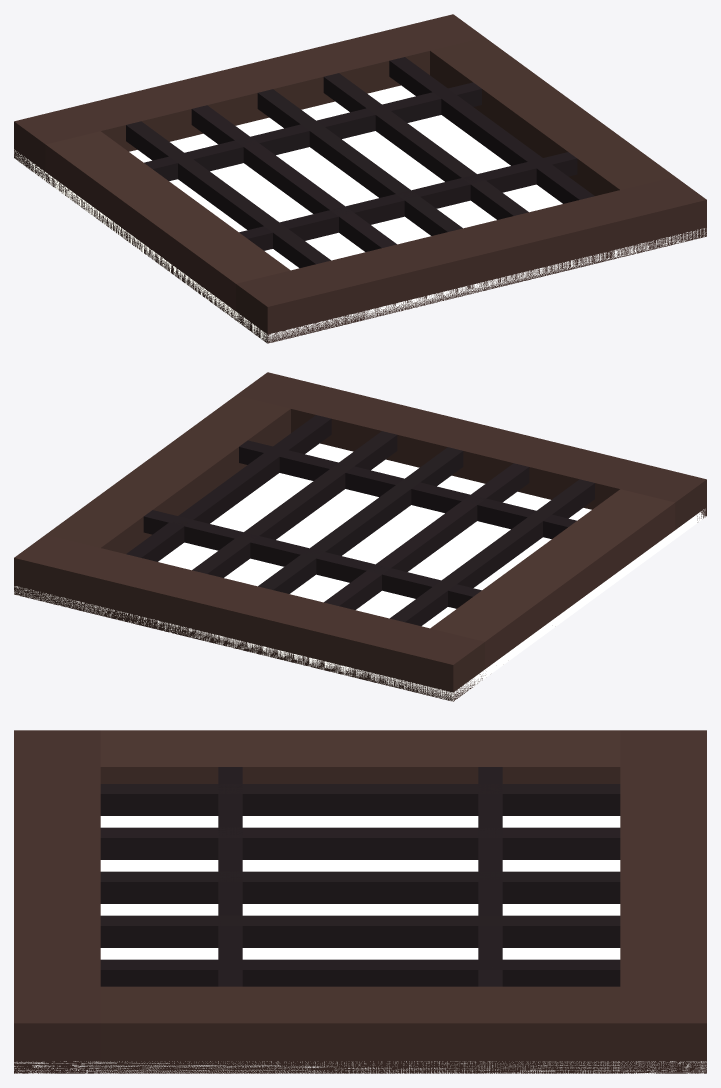
The model's file is floor_lava_grate_4m.glb.
3 views of the same model, one above another, from view 1: azimuth 30°, elevation 25°; view 2: azimuth 150°, elevation 25°; view 3: azimuth 270°, elevation 25° (orthographic). The views are drawn at different scales.
Visible parts, largest first — view 1: floor_lava_grate_4m; view 2: floor_lava_grate_4m; view 3: floor_lava_grate_4m.
Part boxes in pixels (x1,y1,x2,y2): floor_lava_grate_4m: [14, 14, 706, 343]; floor_lava_grate_4m: [14, 372, 706, 701]; floor_lava_grate_4m: [14, 730, 706, 1073].
Size of the model in its own units: 4 by 0.32 by 4.
